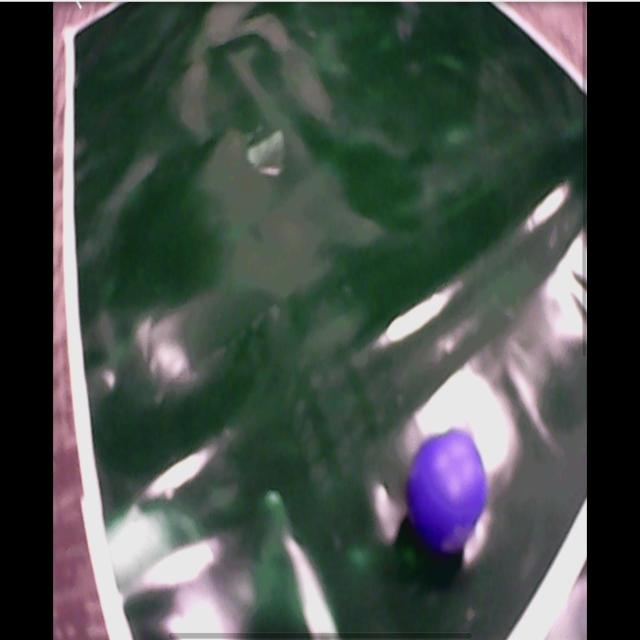ball: (406, 432, 488, 552)
